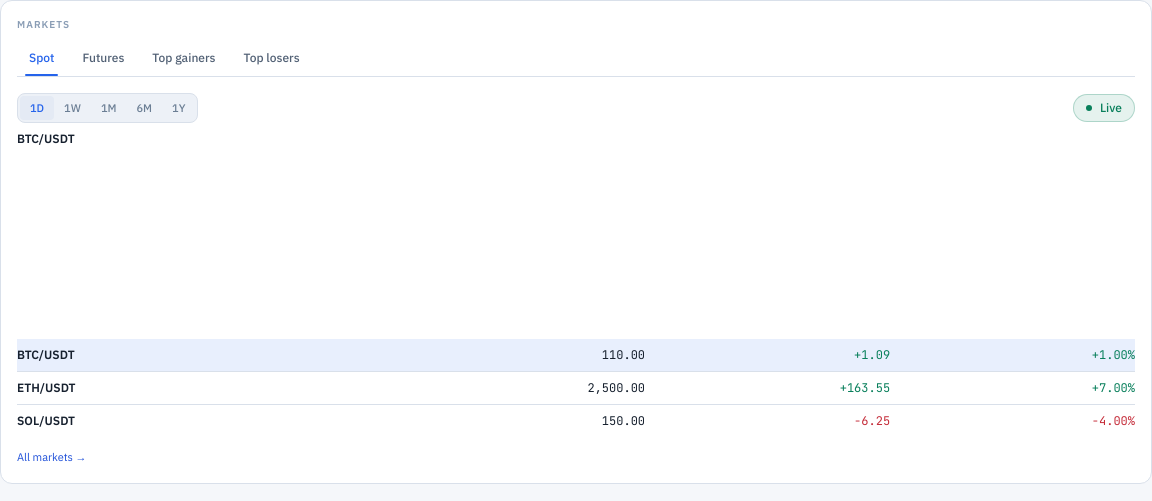
Test case: market overview (D-126) › shows the top gainers from the Spot prices and the Futures pairs at their mark price
Expected: the button "BTC/USDT" is shown, [17,347,75,363]
Step 1. Click the tab "Top gainers" → click(184, 58), box [140,40,228,76]
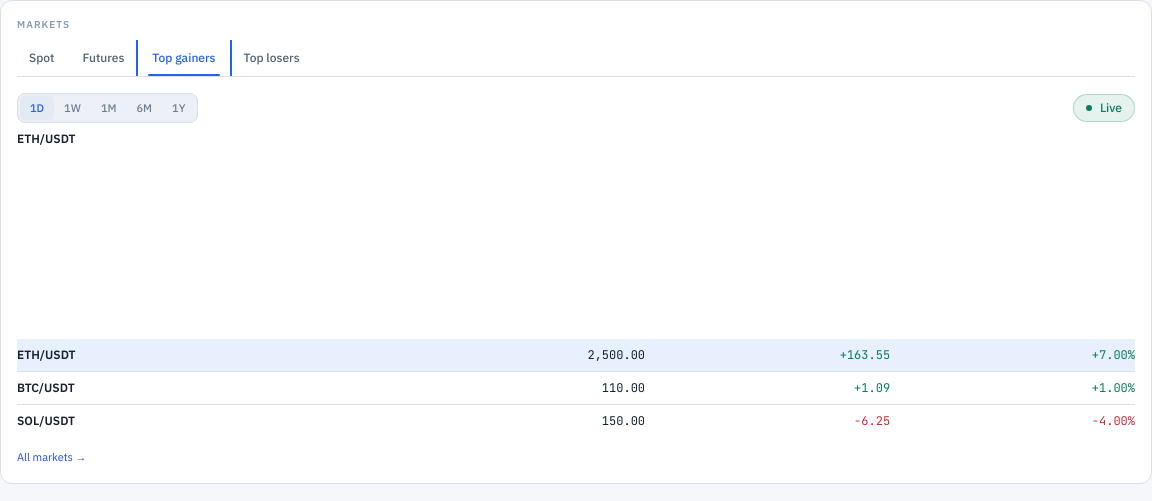
Step 2. Click the tab "Futures" → click(103, 58), box [70,40,136,76]
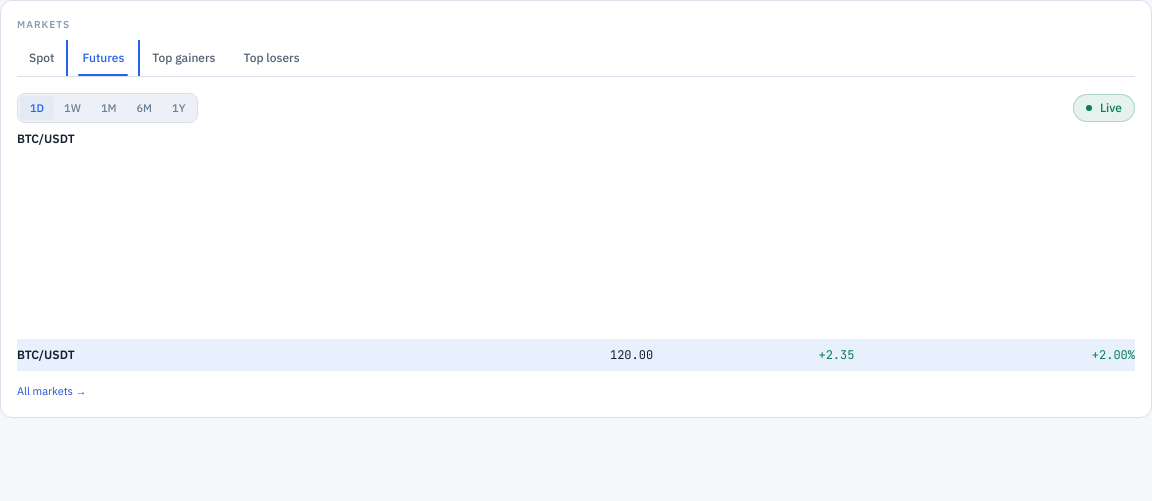
Expected: the button "BTC/USDT" is shown, [17,347,75,363]
Expected: the text "120.00" is shown, [610,347,653,363]
